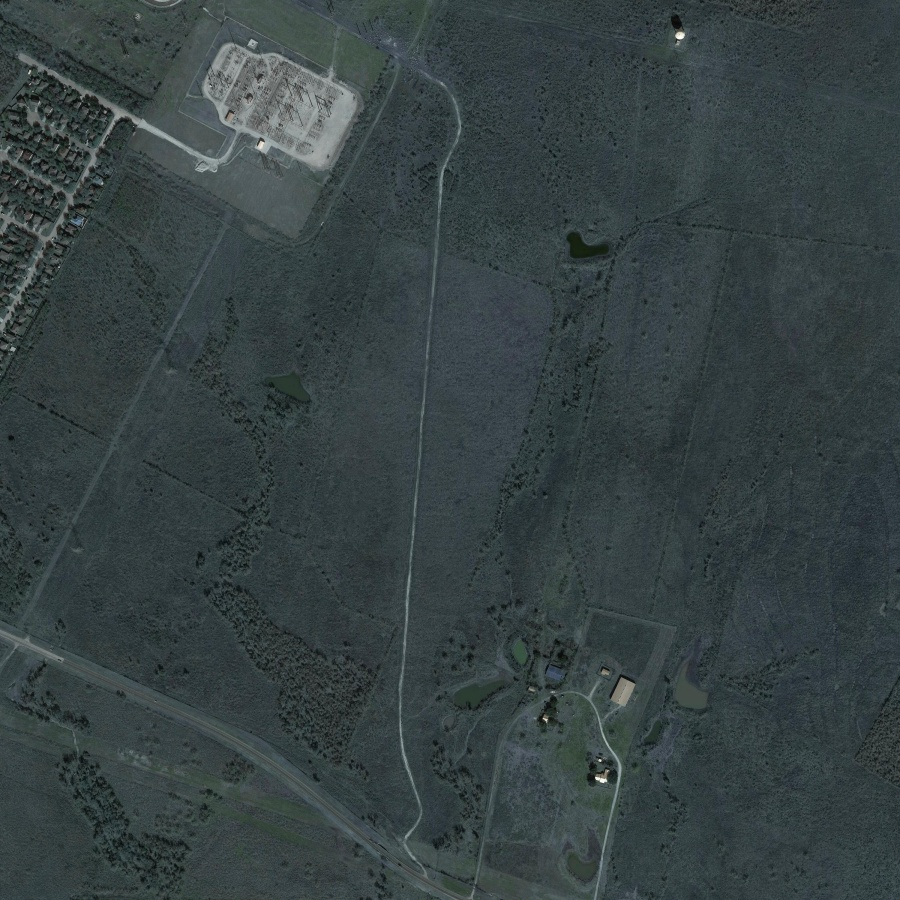PowerPlant: (200, 27, 346, 164)
